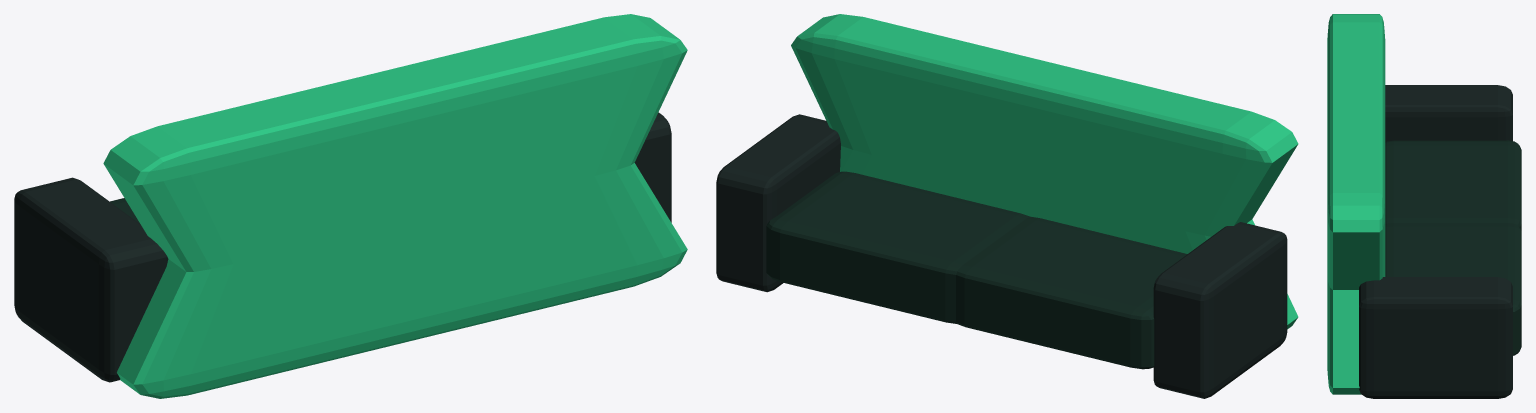
Rendered from sofa.fbx.
The picture shows the model from 3 angles, left to right: view 1: azimuth 30°, elevation 25°; view 2: azimuth 150°, elevation 25°; view 3: azimuth 270°, elevation 25°; orthographic projection. The views are drawn at different scales.
Parts seen in each view (by area): view 1: Sofa; view 2: Sofa; view 3: Sofa.
Boxes of the visible parts, bbox=[...] form: Sofa: bbox=[14, 14, 687, 398]; Sofa: bbox=[716, 14, 1298, 398]; Sofa: bbox=[1327, 14, 1521, 398].
Bounding box in the file's own units: 4.8 × 1.82 × 2.
